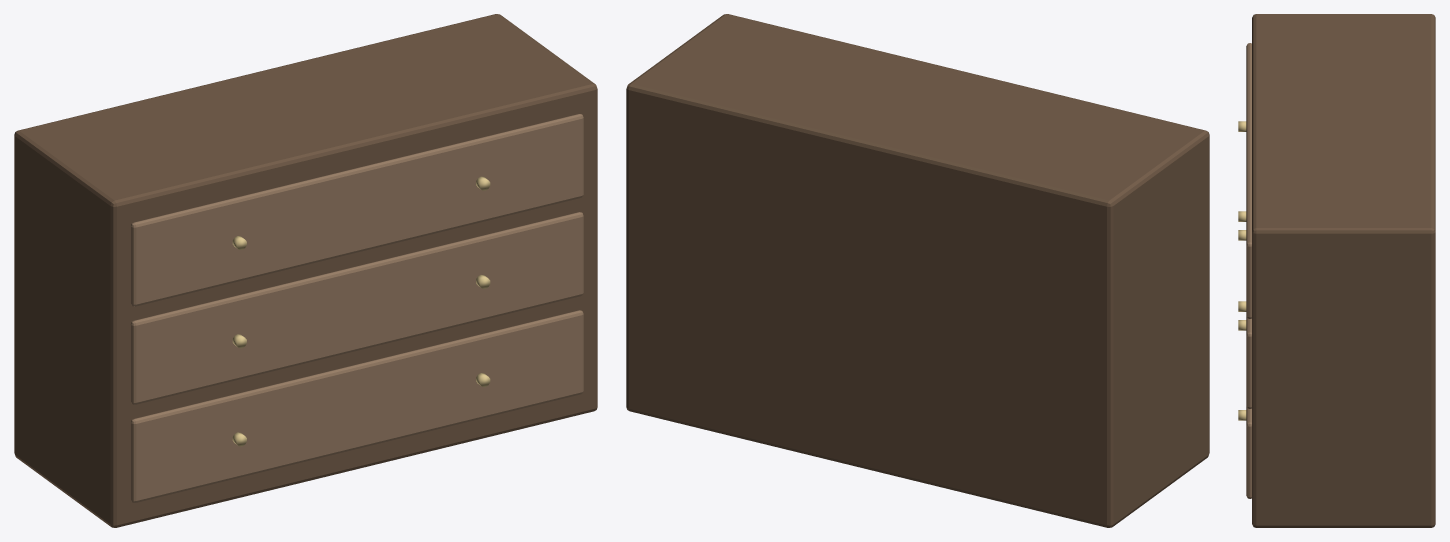
File: dresser.glb
3 renders of one model, left to right at view 1: azimuth 30°, elevation 25°; view 2: azimuth 150°, elevation 25°; view 3: azimuth 270°, elevation 25°, orthographic. The views are drawn at different scales.
Visible parts, largest first — view 1: body, drawer.002, drawer, drawer.001; view 2: body; view 3: body, drawer.002, drawer, drawer.001.
Part boxes in pixels (bbox=[...]): body: bbox=[14, 14, 597, 527]; drawer.002: bbox=[130, 114, 583, 306]; drawer: bbox=[130, 310, 583, 502]; drawer.001: bbox=[130, 212, 583, 404]; body: bbox=[626, 14, 1209, 527]; body: bbox=[1252, 14, 1435, 527]; drawer.002: bbox=[1246, 43, 1251, 318]; drawer: bbox=[1246, 406, 1251, 498]; drawer.001: bbox=[1246, 316, 1251, 408].
Bounding box in the file's own units: 1.4 × 0.9 × 0.5375.
